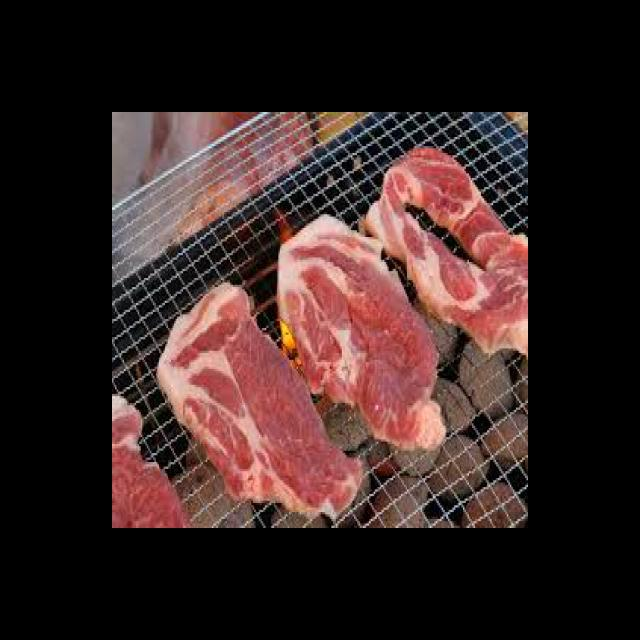pork: (165, 292, 352, 526), (279, 228, 446, 460), (376, 146, 526, 358)
